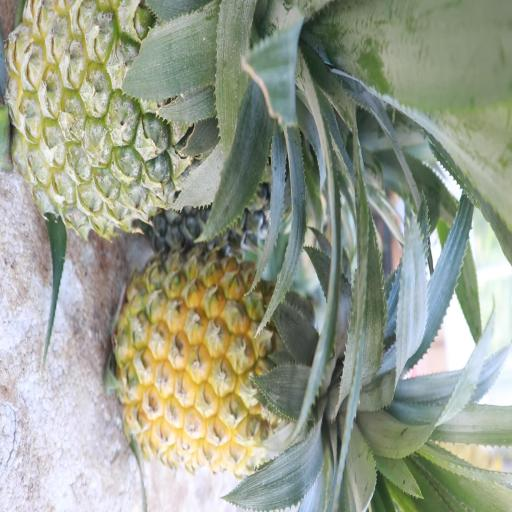------------------------------: (8, 0, 256, 225)
Pineapple - v8 v1: (114, 251, 345, 470)
